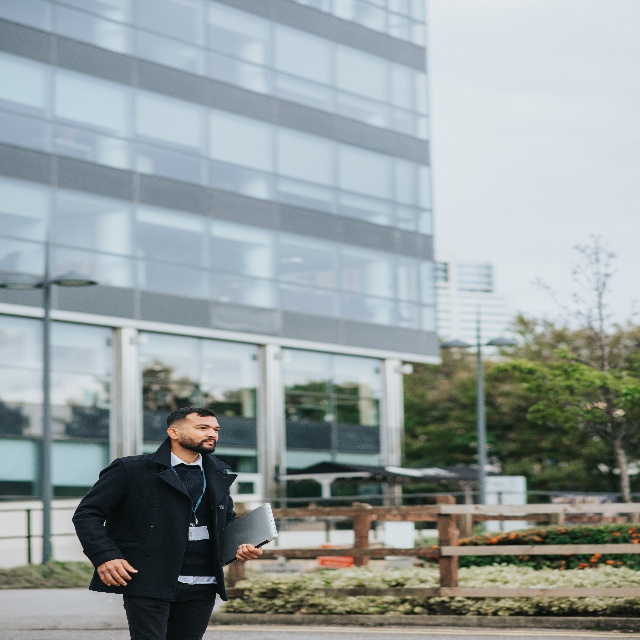Sin_guantes: (98, 560, 138, 590), (236, 543, 262, 563)
